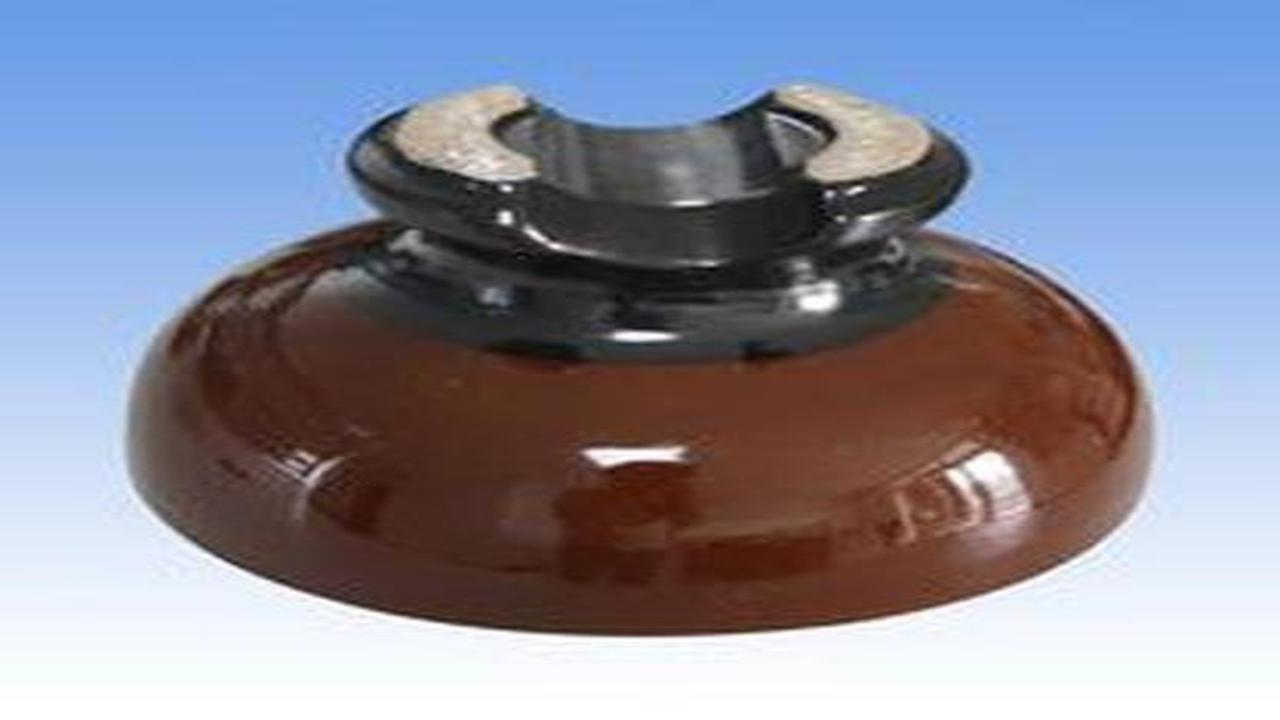insulator_pin: (108, 57, 1161, 648)
